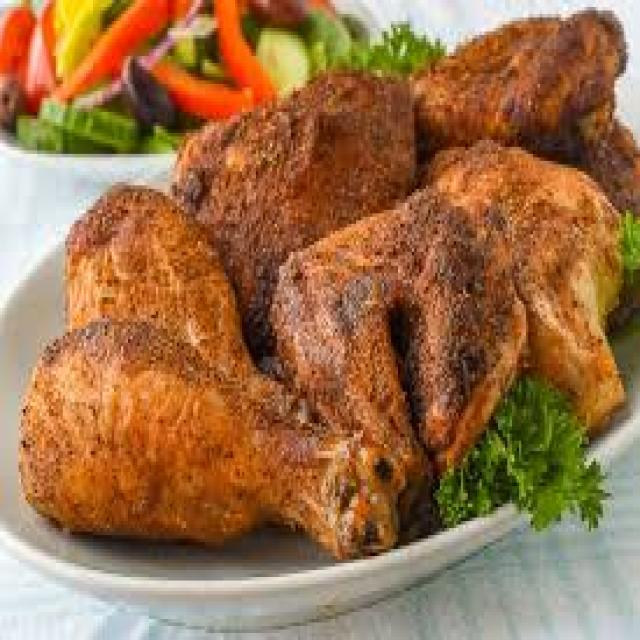Frango: (28, 24, 628, 546)
